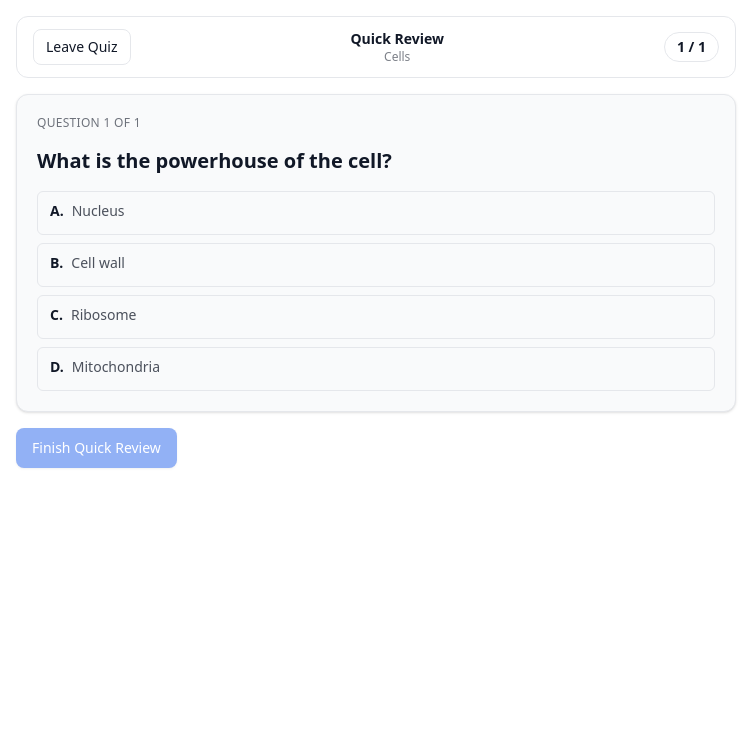
Test: QuickReviewPage post-quiz UX › fetches and renders the server-resolved next step after completion
This screenshot has width=753, height=744.
Click the button "D.Mitochondria".
click(116, 366)  # box [37,347,715,391]
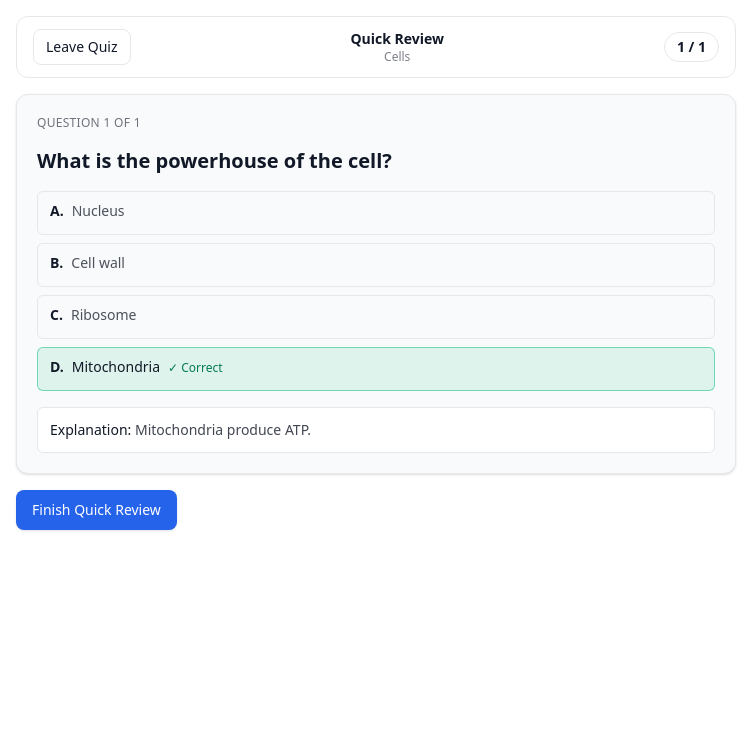
Expected: the button "Finish Quick Review" is enabled
Click the button "Finish Quick Review".
click(96, 510)  # box [16,490,177,530]
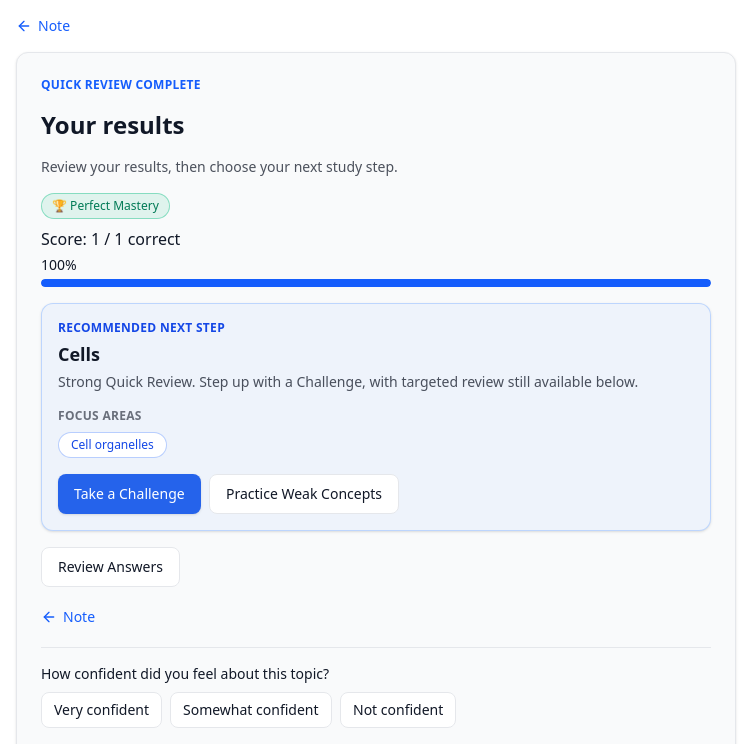
Expected: the text "Recommended next step" is shown, [58,319,225,336]
Expected: the text "Cell organelles" is shown, [58,432,167,458]
